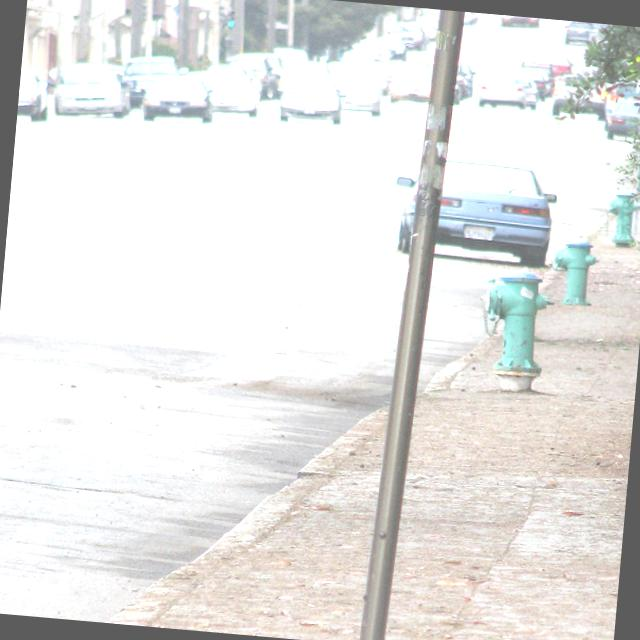Vehicle: (201, 0, 618, 130), (390, 150, 560, 268), (44, 59, 136, 122), (136, 71, 218, 125), (118, 52, 188, 115), (274, 74, 344, 126), (388, 64, 464, 109), (196, 72, 264, 120), (326, 70, 385, 117), (16, 66, 51, 123), (477, 74, 528, 112), (602, 97, 640, 141), (516, 80, 540, 110), (312, 46, 330, 62)
